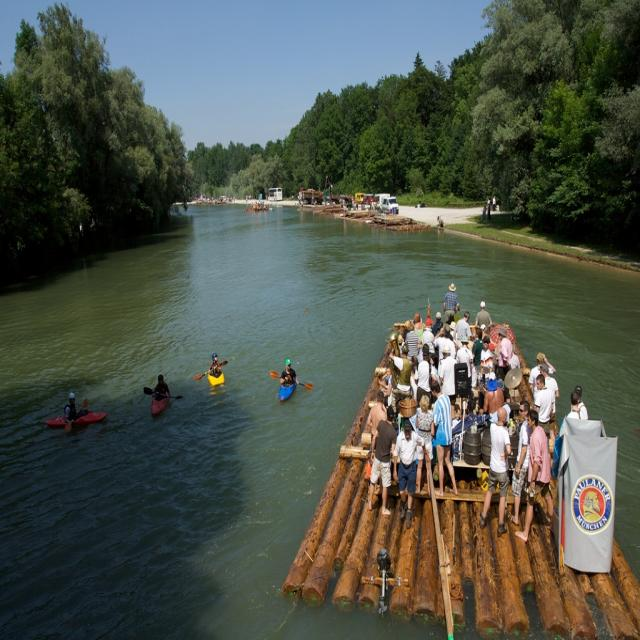paulaner: (572, 475, 614, 535)
